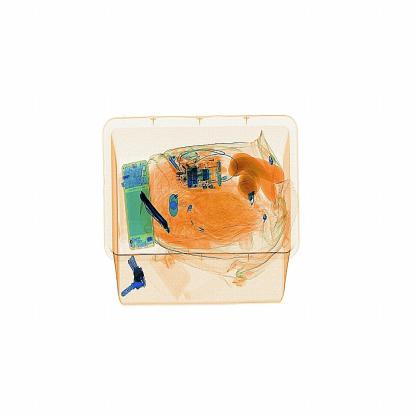knife: (137, 192, 175, 233)
